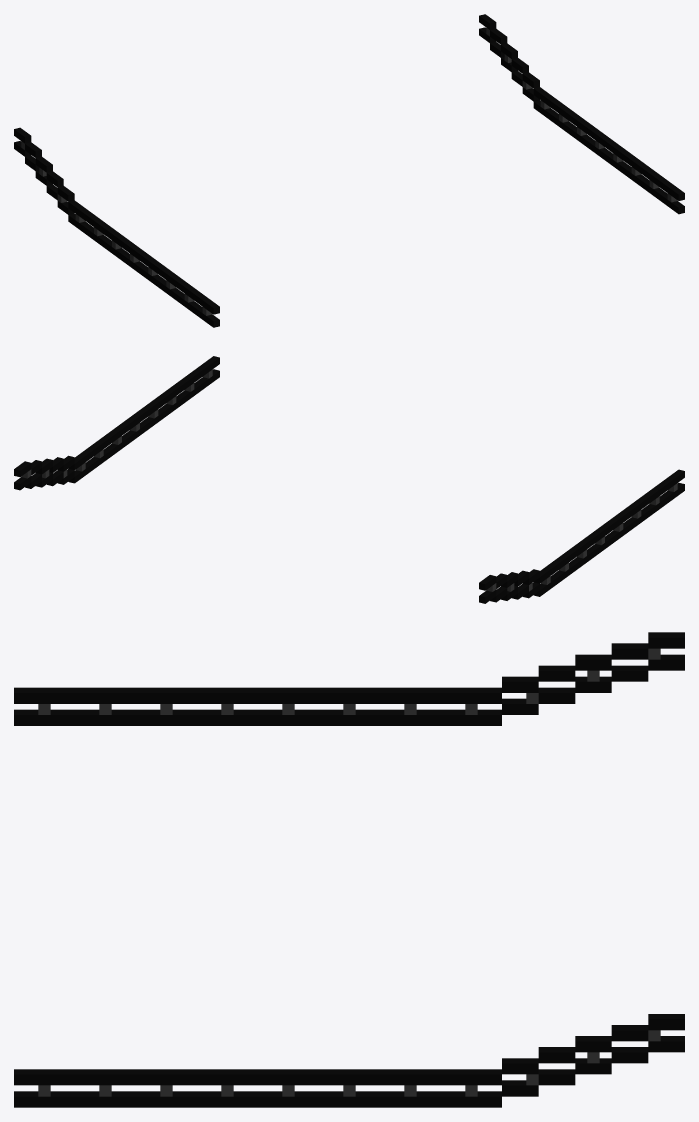
The model's file is ramp-1.obj.
The picture shows the model from 3 angles, top to bottom: view 1: azimuth 30°, elevation 25°; view 2: azimuth 150°, elevation 25°; view 3: azimuth 270°, elevation 25°; orthographic projection. The views are drawn at different scales.
Parts seen in each view (by area): view 1: ramp-1; view 2: ramp-1; view 3: ramp-1.
Boxes of the visible parts, x1,y1,x2,y2 form: ramp-1: (14,14,684,327); ramp-1: (14,356,684,603); ramp-1: (14,632,684,1107).
Bounding box in the file's own units: 75 × 8 × 55.
1 material, 1 textured.
